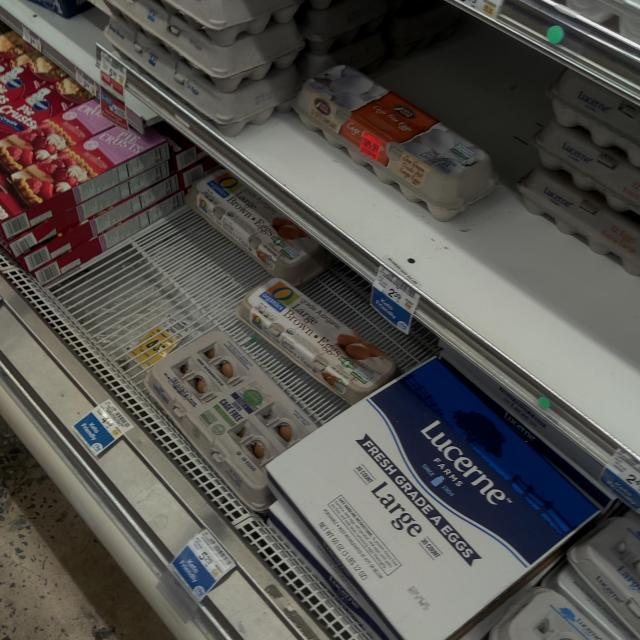egg: (288, 48, 485, 226), (142, 314, 291, 490), (227, 264, 410, 392), (502, 520, 640, 640)
